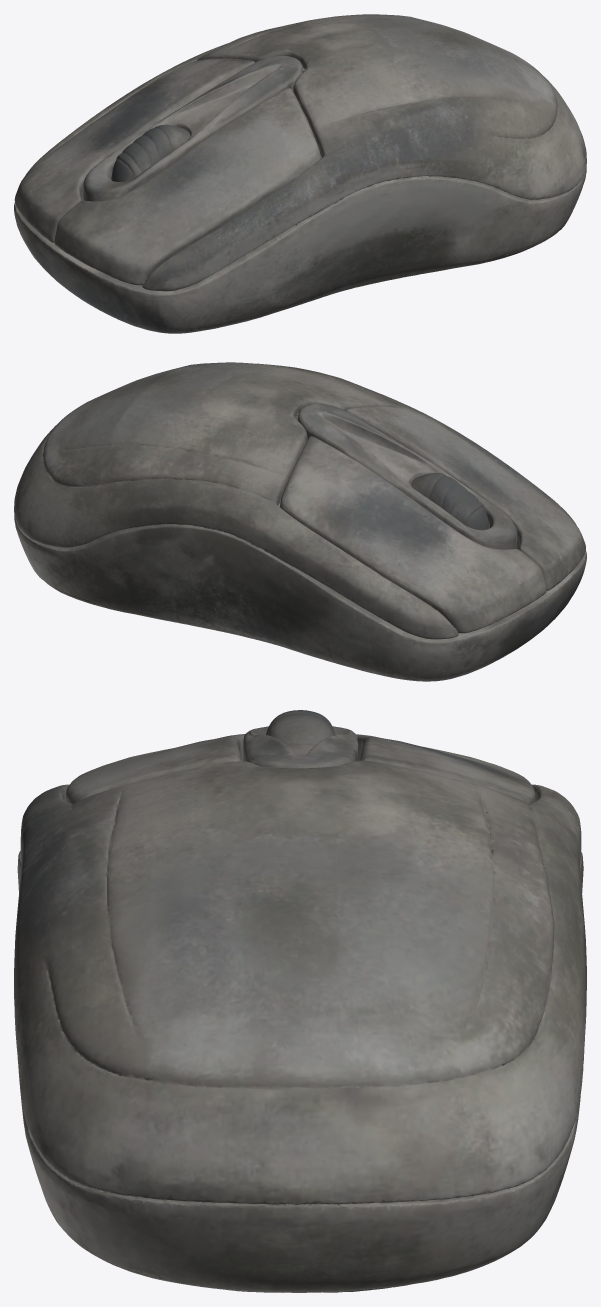
Rendered from dusty_mouse.glb.
3 views of the same model, one above another, from view 1: azimuth 30°, elevation 25°; view 2: azimuth 150°, elevation 25°; view 3: azimuth 270°, elevation 25° (orthographic). The views are drawn at different scales.
Visible parts, largest first — view 1: world; view 2: world; view 3: world.
Boxes of the visible parts, x1,y1,x2,y2 form: world: (14, 14, 586, 333); world: (14, 362, 586, 681); world: (14, 710, 586, 1292).
Bounding box in the file's own units: 1 × 0.3623 × 0.5543.
1 material, 1 textured.
